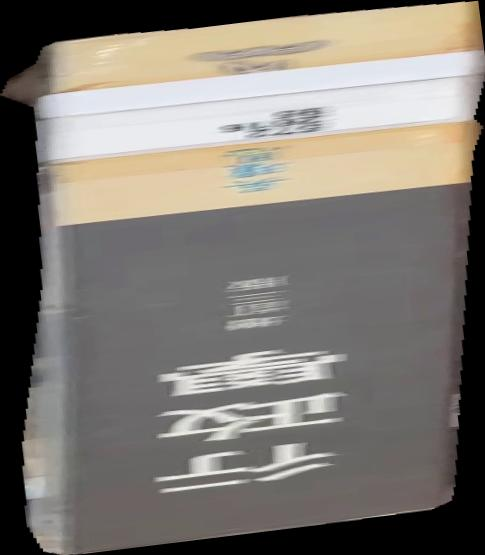reverse: (1, 1, 485, 555)
